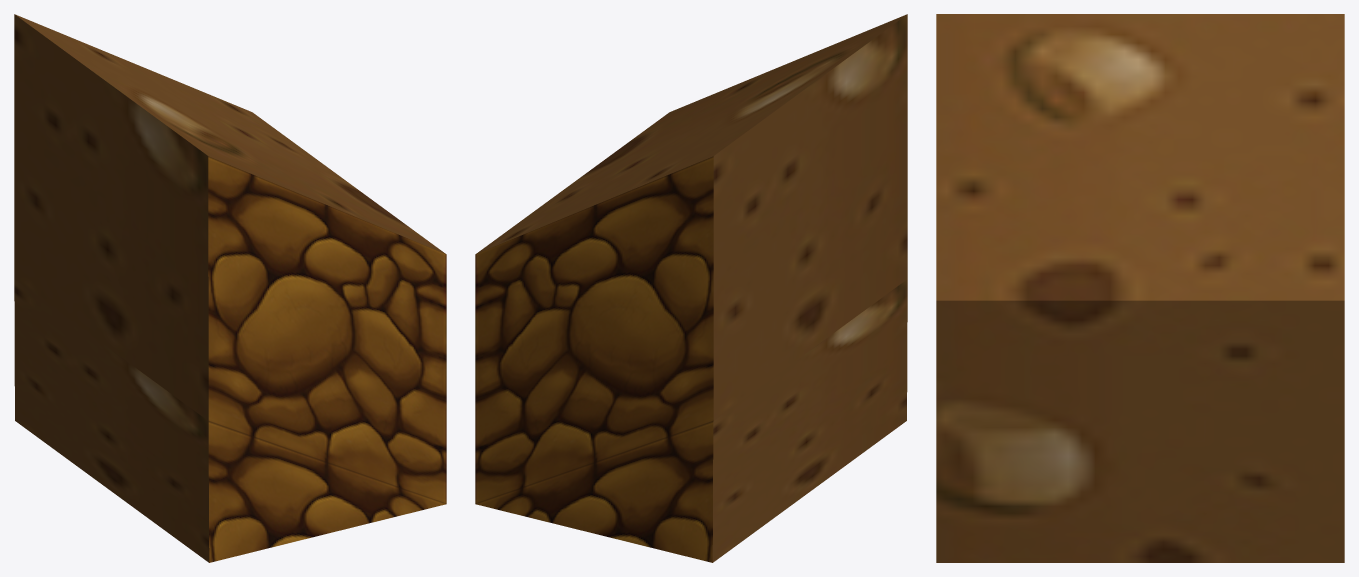
The model's file is Road_16.fbx.
3 renders of one model, left to right at view 1: azimuth 30°, elevation 25°; view 2: azimuth 150°, elevation 25°; view 3: azimuth 270°, elevation 25°, orthographic. The views are drawn at different scales.
Parts seen in each view (by area): view 1: Road_16; view 2: Road_16; view 3: Road_16.
Part boxes in pixels (box(x1,y1,x2,y2)): Road_16: box(14, 14, 446, 562); Road_16: box(475, 14, 907, 562); Road_16: box(936, 14, 1344, 562).
Size of the model in its own units: 3.02 by 4.92 by 4.26.
1 material, 1 textured.
